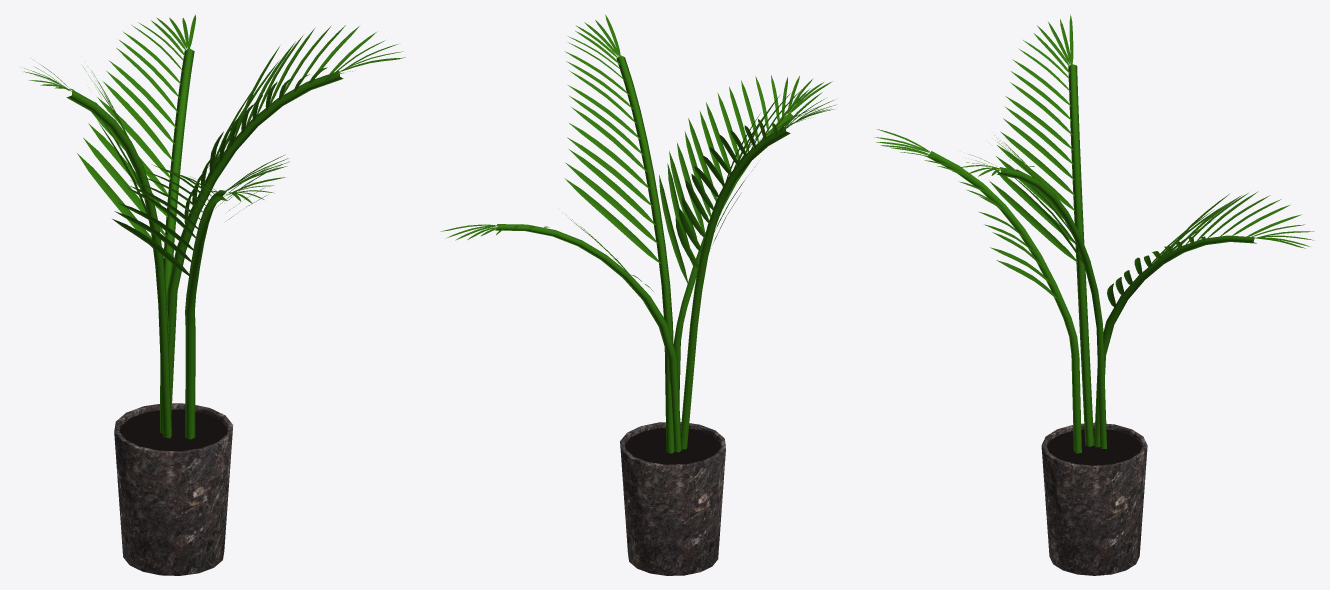
3 renders of one model, left to right at view 1: azimuth 30°, elevation 25°; view 2: azimuth 150°, elevation 25°; view 3: azimuth 270°, elevation 25°, orthographic. The views are drawn at different scales.
Visible parts, largest first — view 1: Node; view 2: Node; view 3: Node.
Boxes of the visible parts, x1,y1,x2,y2 form: Node: [24, 14, 405, 575]; Node: [440, 14, 836, 575]; Node: [874, 14, 1314, 575].
Size of the model in its own units: 0.7702 by 1.18 by 0.9997.
3 materials, 1 textured.
